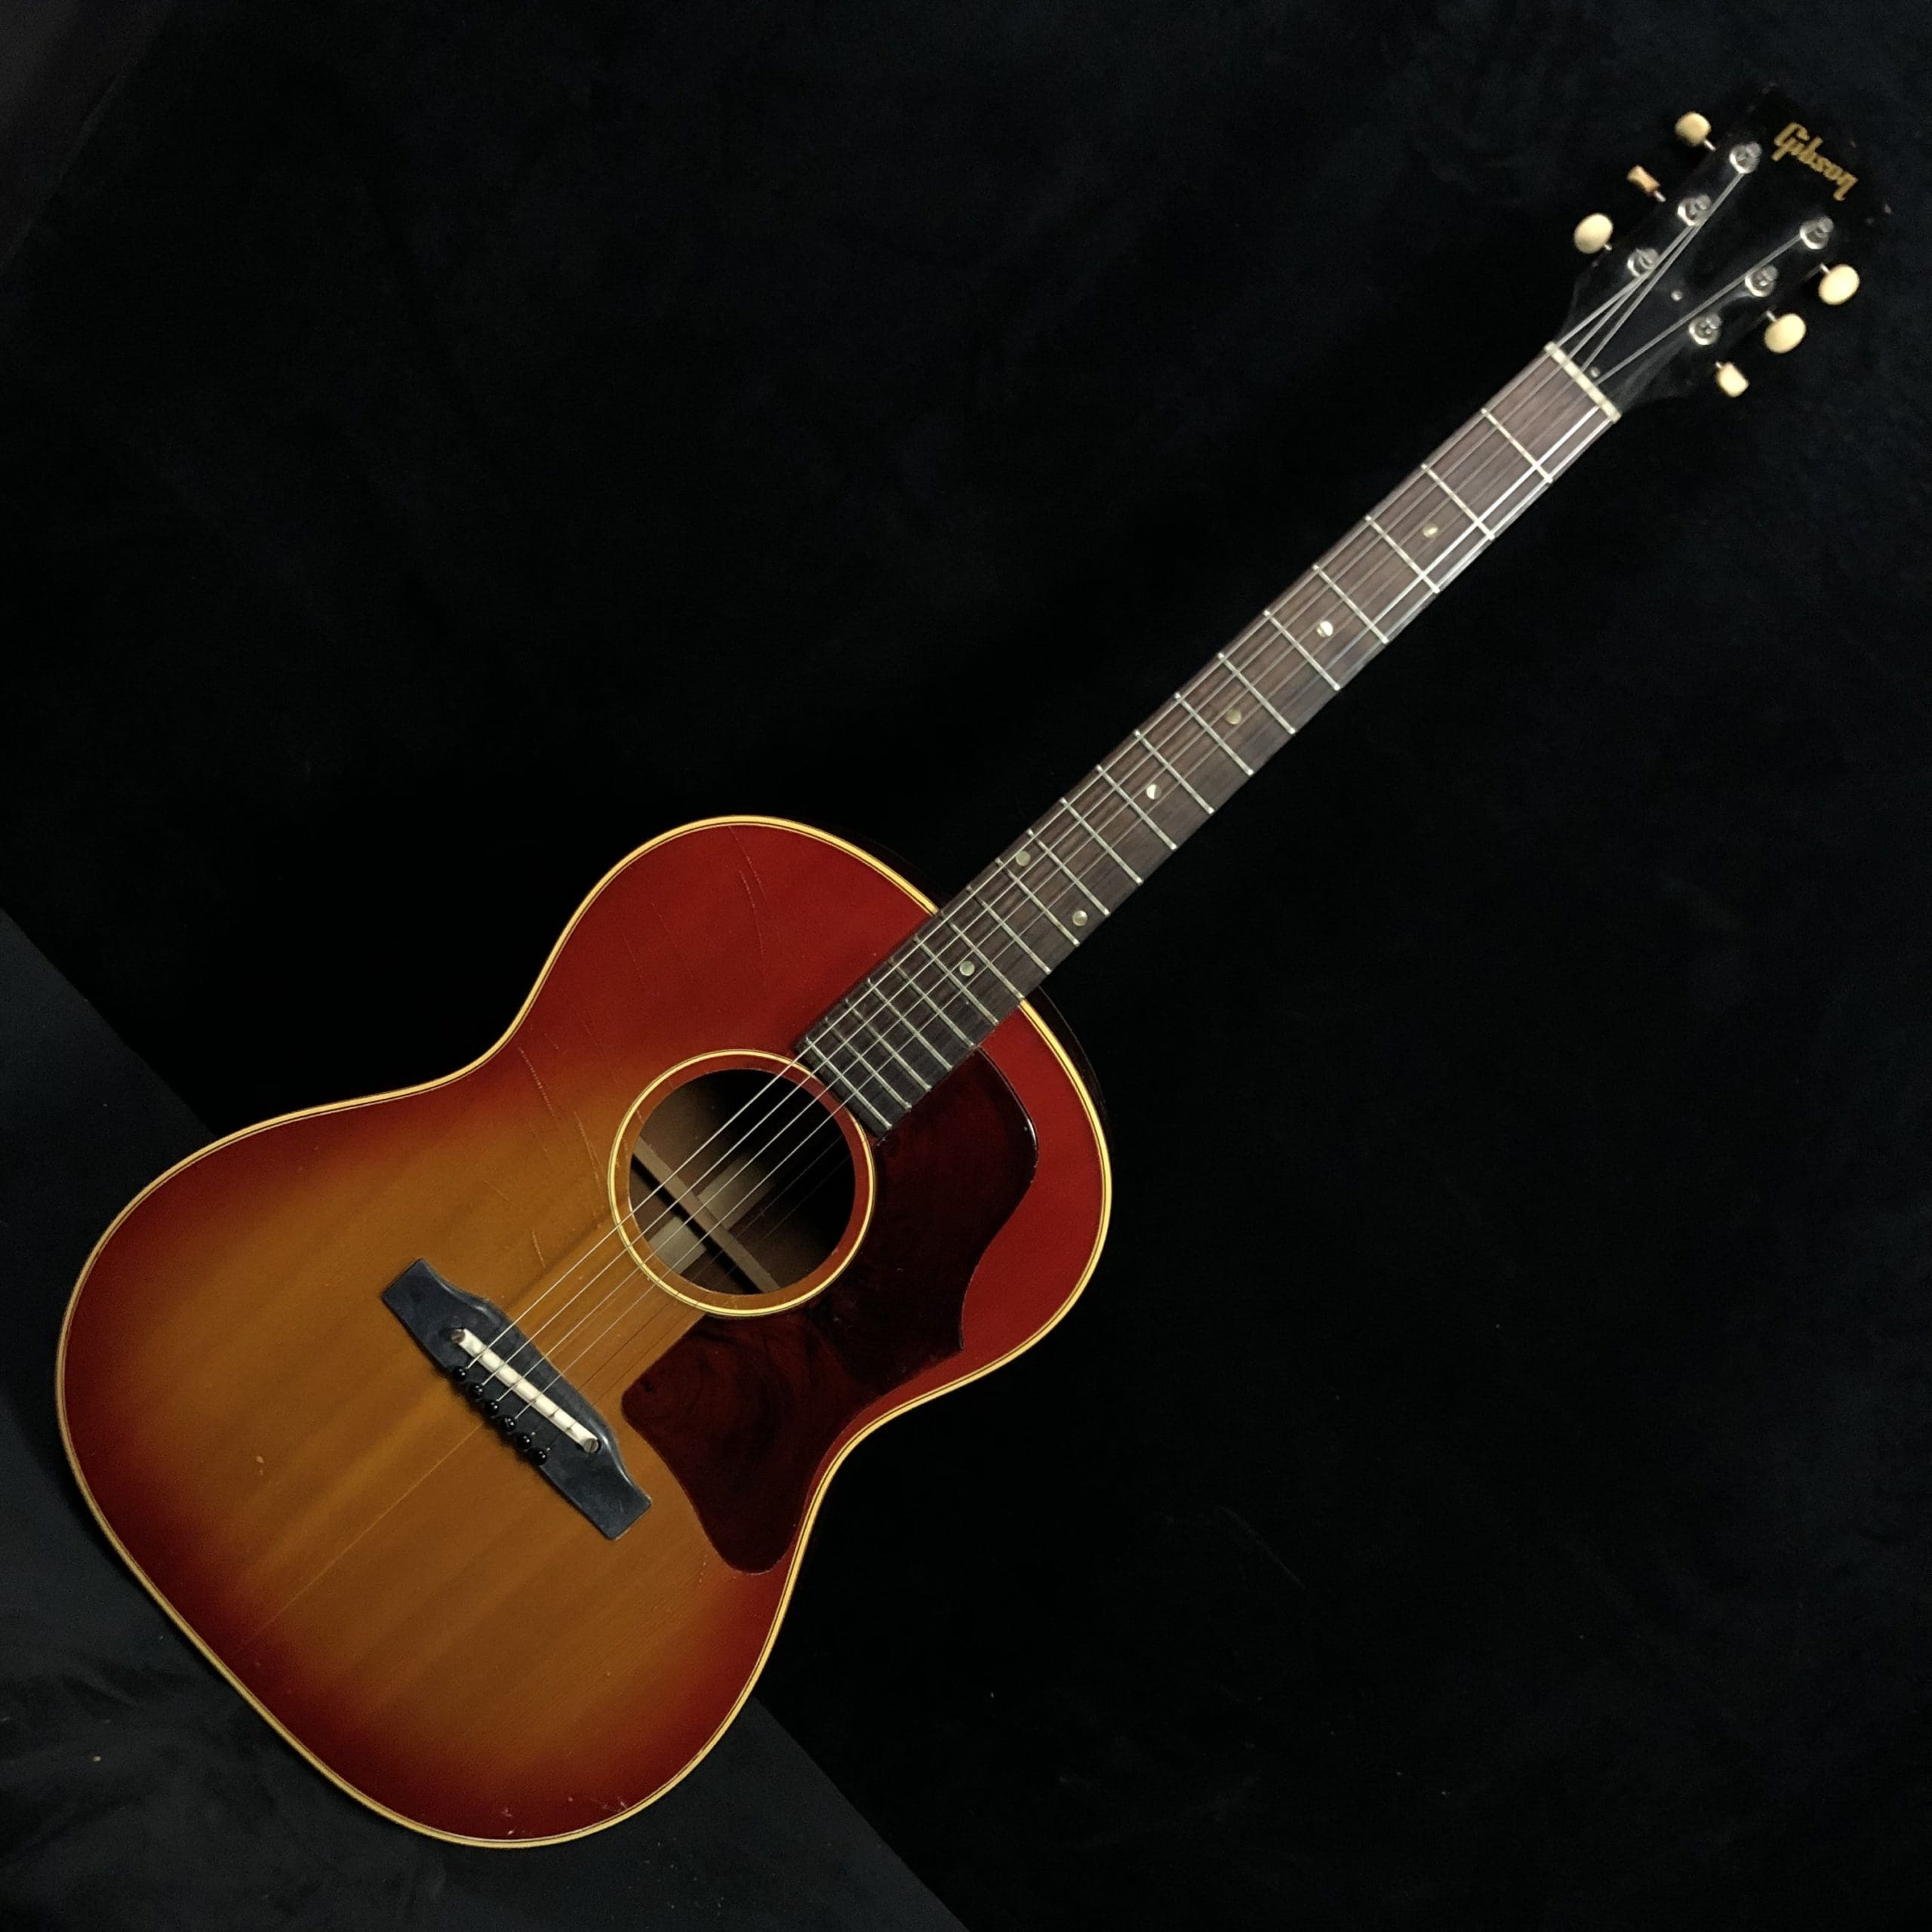guitar: (27, 172, 1888, 1874), (458, 83, 1911, 1645)
